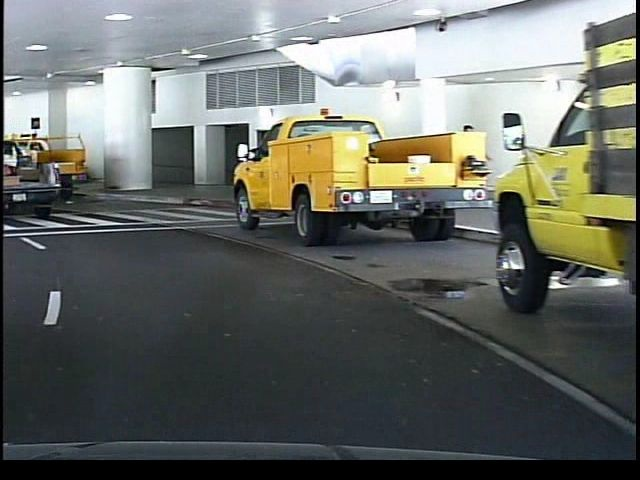person: (451, 115, 482, 214)
